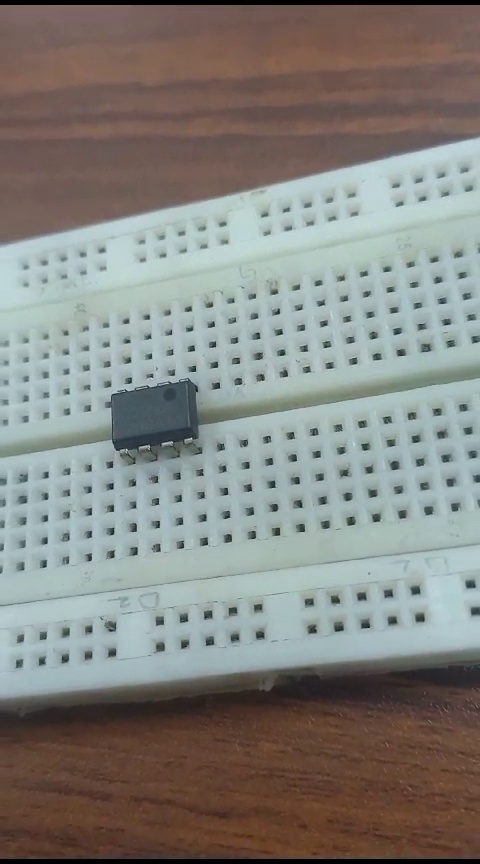IC: (94, 372, 210, 460)
